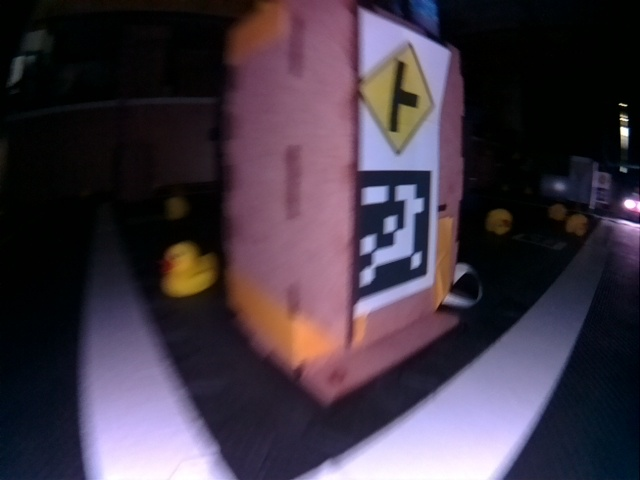Duckie: (160, 242, 216, 296), (485, 209, 512, 235), (165, 197, 188, 219), (566, 214, 587, 234), (548, 203, 566, 220)
Duckiebot: (621, 190, 638, 219)
Intersection sign: (358, 38, 438, 154)
QR code: (357, 167, 433, 303)
